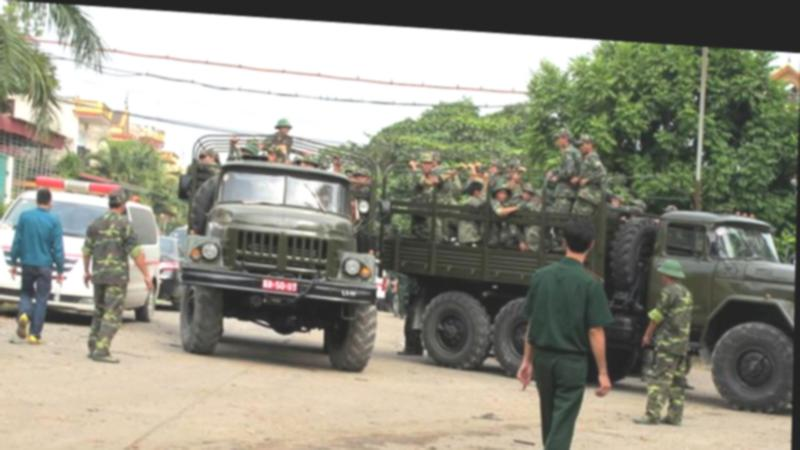License_Plate: (260, 277, 299, 293)
